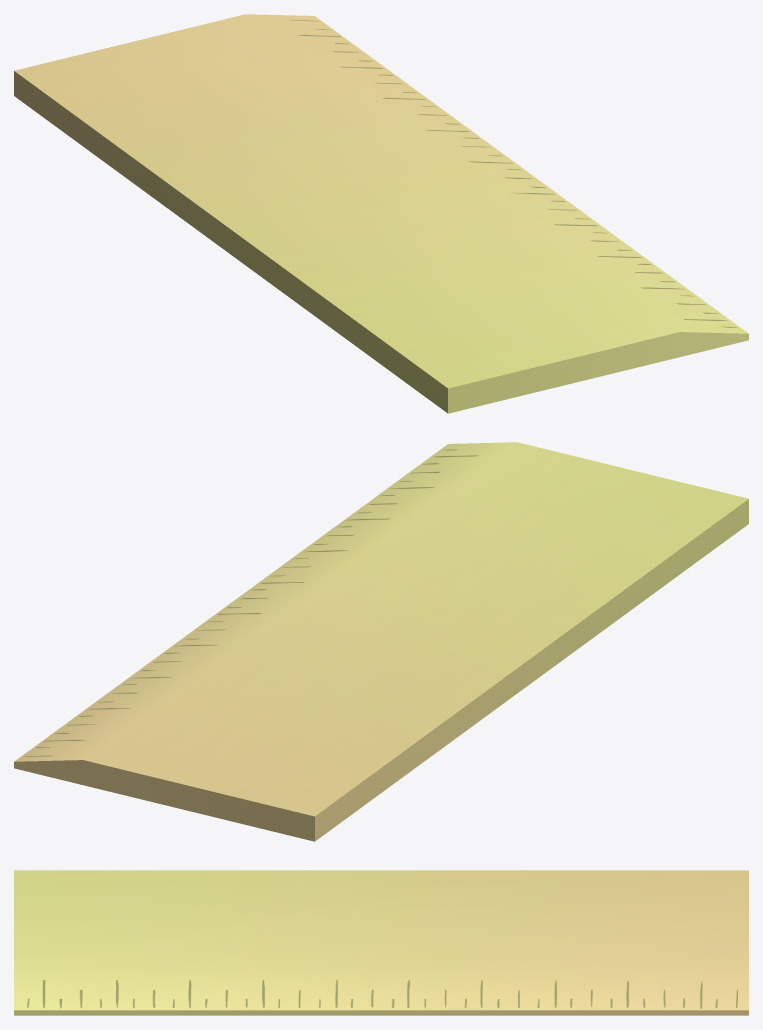
The model's file is env_seesaw_ruler_export_01.fbx.
The picture shows the model from 3 angles, top to bottom: view 1: azimuth 30°, elevation 25°; view 2: azimuth 150°, elevation 25°; view 3: azimuth 270°, elevation 25°; orthographic projection. The views are drawn at different scales.
Parts seen in each view (by area): view 1: pPlane1; view 2: pPlane1; view 3: pPlane1.
Part boxes in pixels (box(x1,y1,x2,y2)): pPlane1: box(14, 14, 748, 413); pPlane1: box(14, 442, 748, 841); pPlane1: box(14, 870, 748, 1015).
Bounding box in the file's own units: 3.94 × 0.3156 × 9.85.
Materials: 1 (1 with a texture image).
